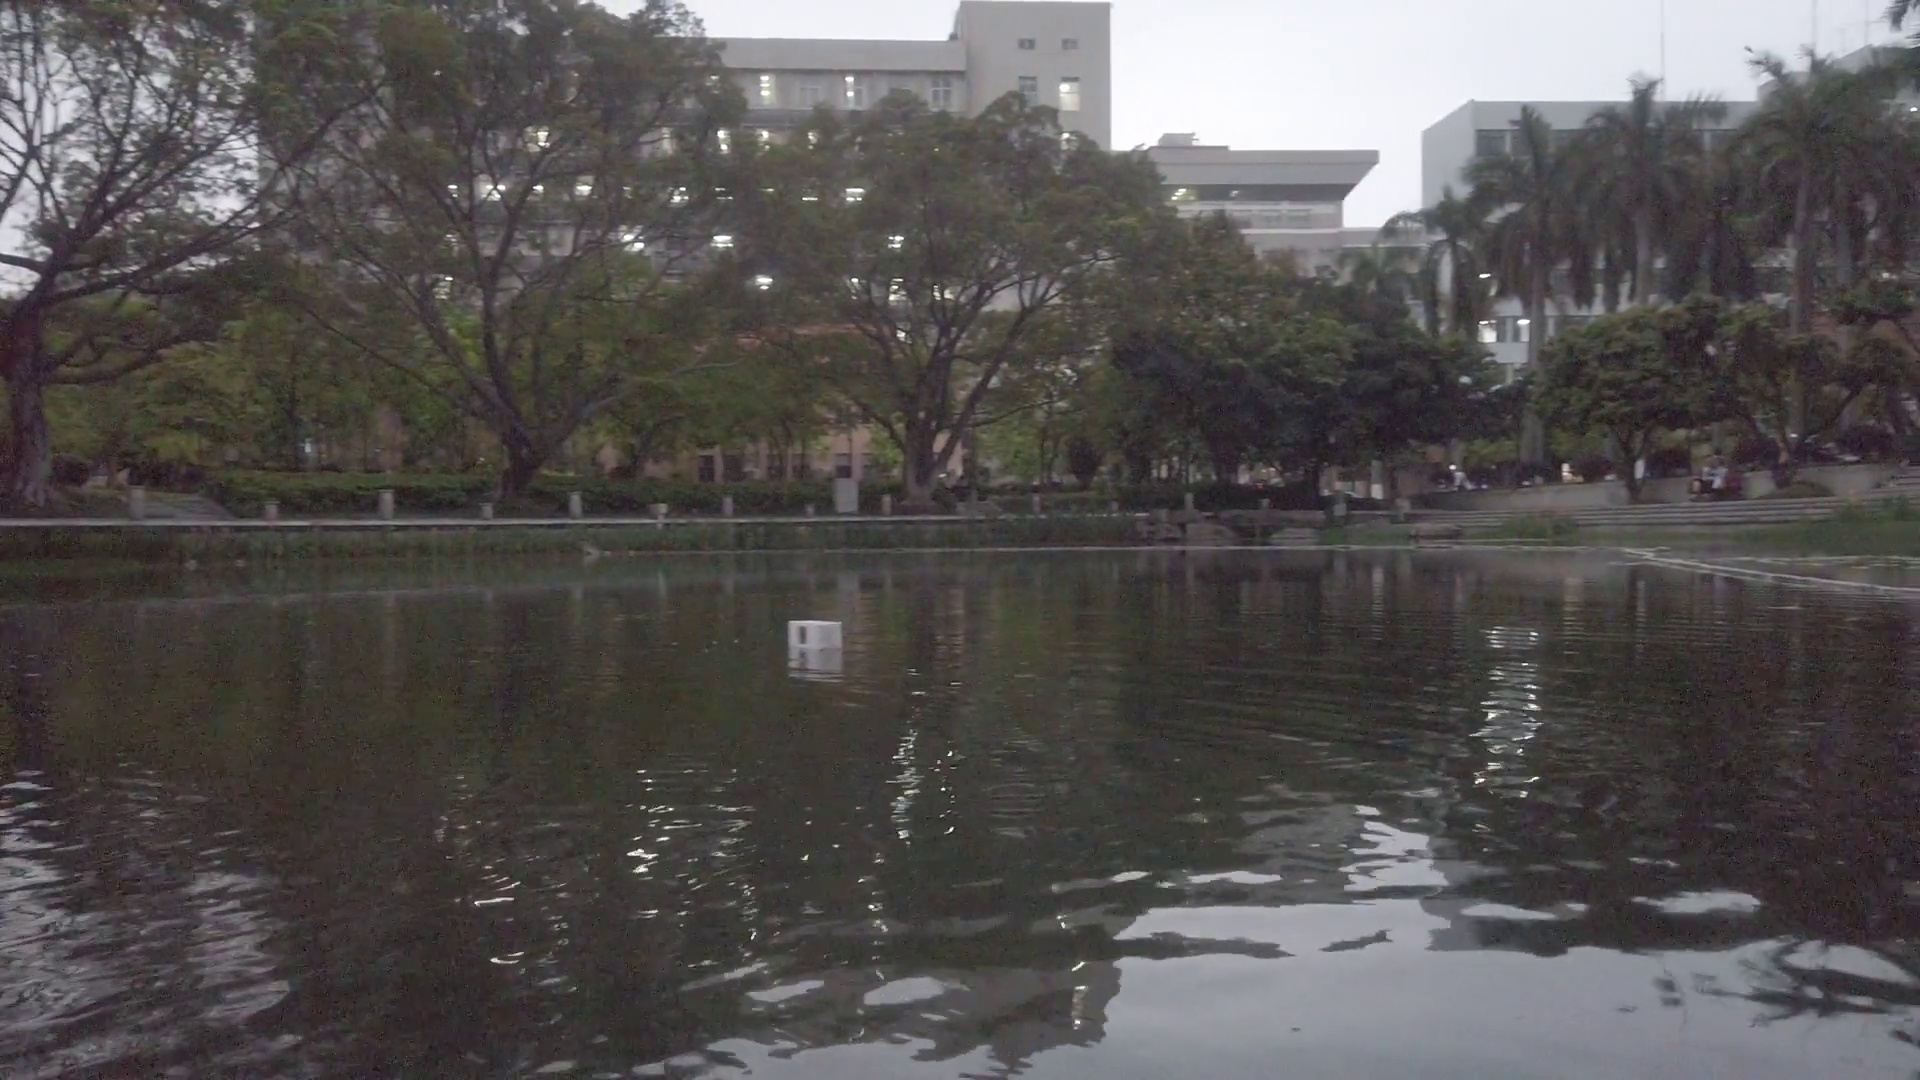carton: (787, 618, 844, 650)
